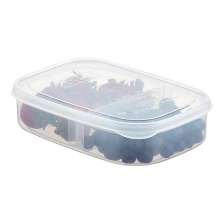plastic_box: (0, 51, 223, 171)
